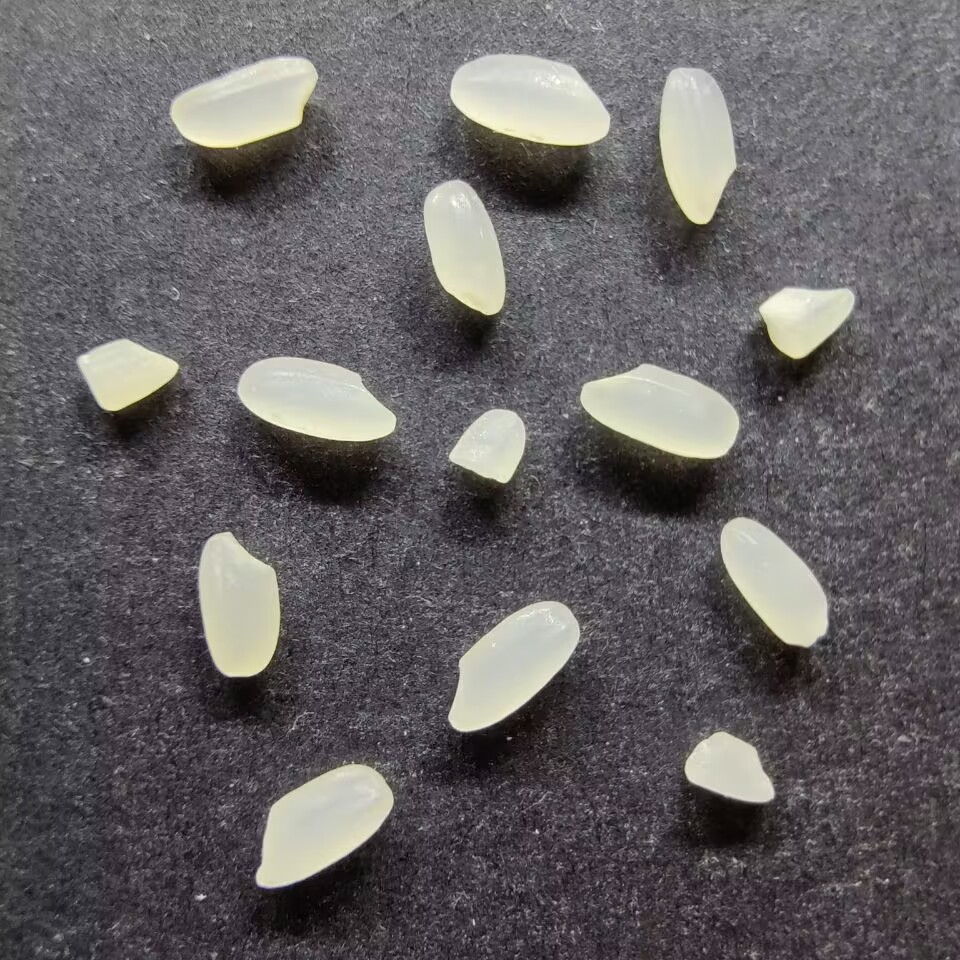broken: (74, 336, 180, 413), (757, 284, 856, 361), (683, 726, 778, 804), (447, 407, 526, 483)
rice: (251, 762, 395, 889), (446, 598, 580, 733), (576, 361, 741, 460), (447, 52, 612, 146), (718, 514, 831, 648), (168, 54, 320, 149), (235, 355, 397, 442), (656, 66, 738, 226), (196, 530, 281, 679), (421, 178, 508, 316)
